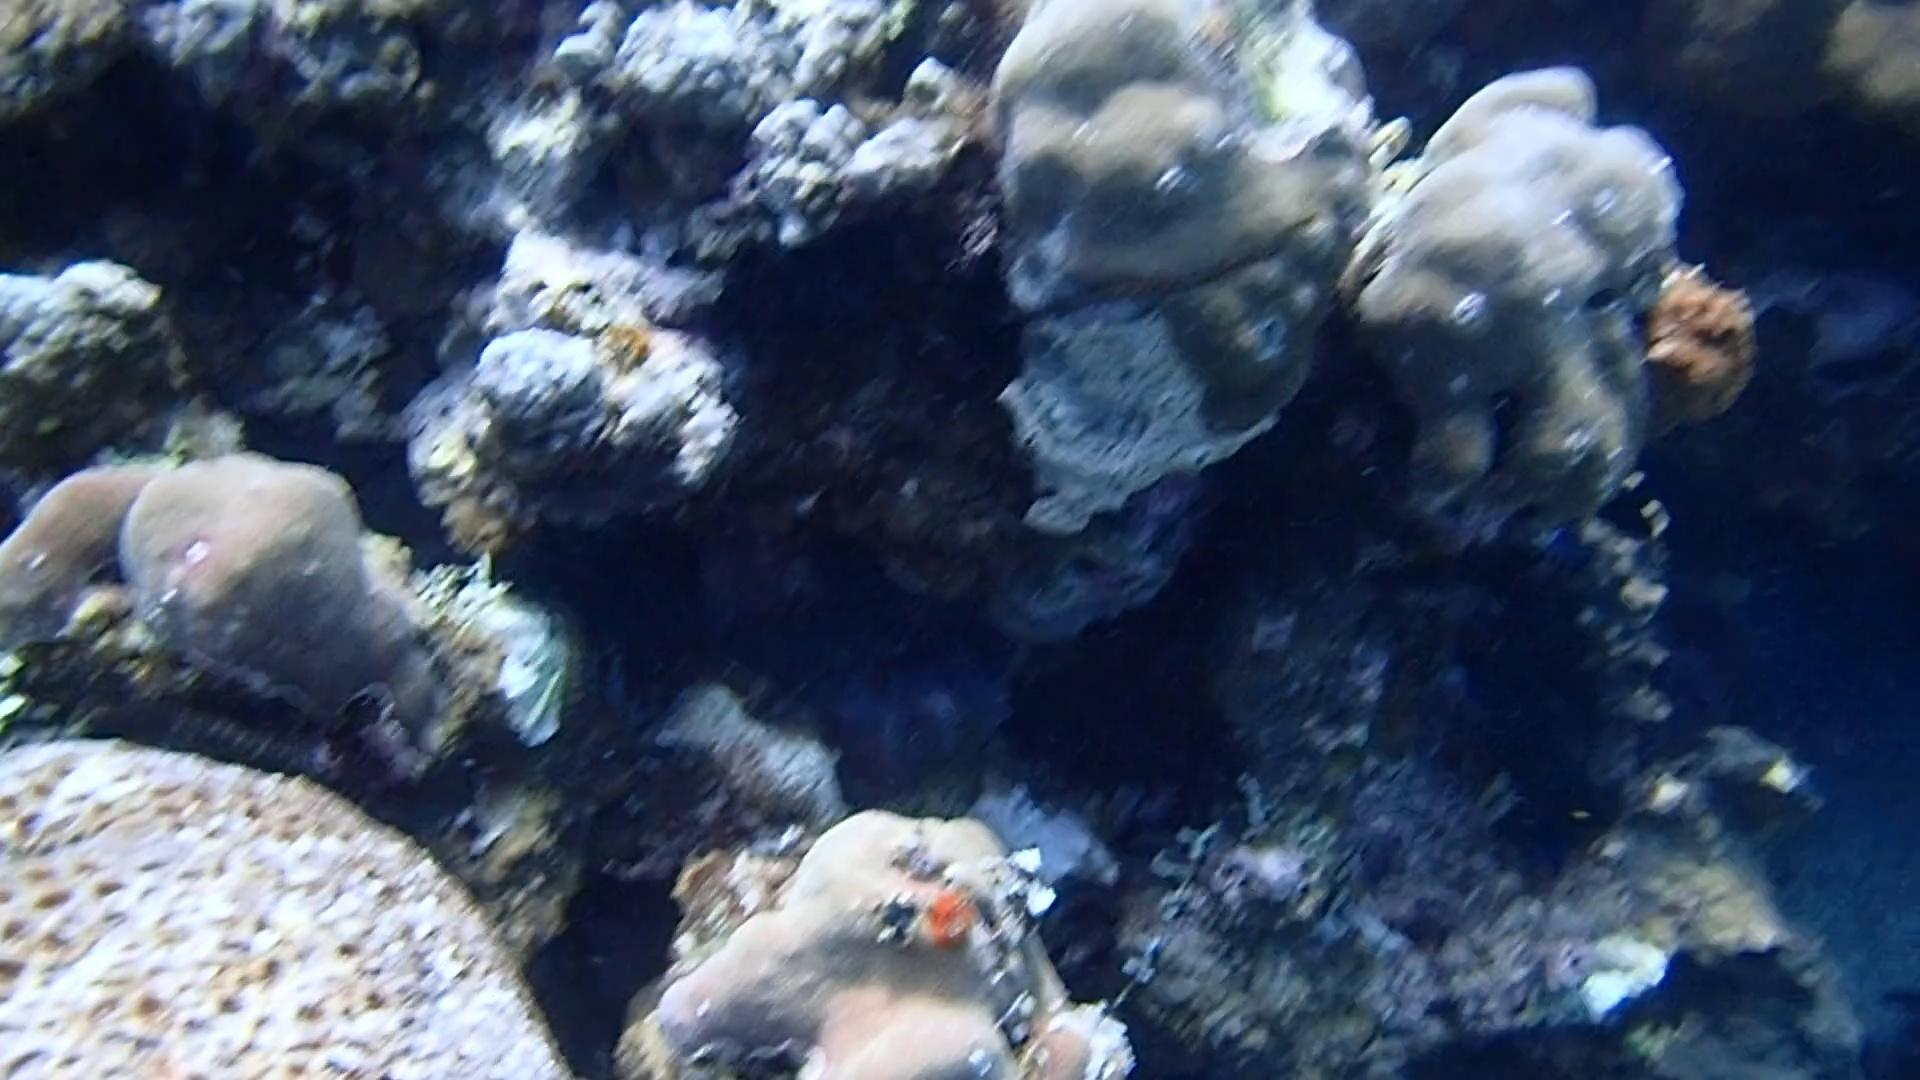Dark Fish: (1593, 479, 1660, 560)
